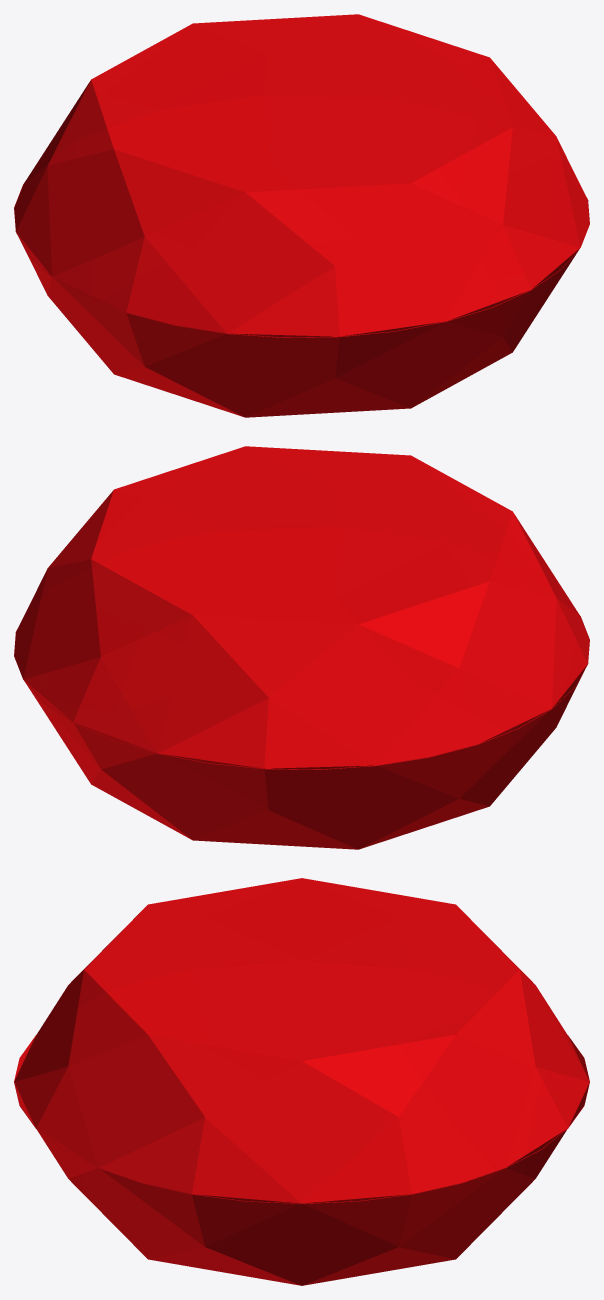
The model's file is roundgem.glb.
3 renders of one model, top to bottom at view 1: azimuth 30°, elevation 25°; view 2: azimuth 150°, elevation 25°; view 3: azimuth 270°, elevation 25°, orthographic.
Parts seen in each view (by area): view 1: diamond; view 2: diamond; view 3: diamond.
Part boxes in pixels (box(x1,y1,x2,y2)): diamond: box(14, 14, 589, 417); diamond: box(14, 446, 589, 849); diamond: box(14, 878, 589, 1285).
Bounding box in the file's own units: 2 × 0.8612 × 2.
